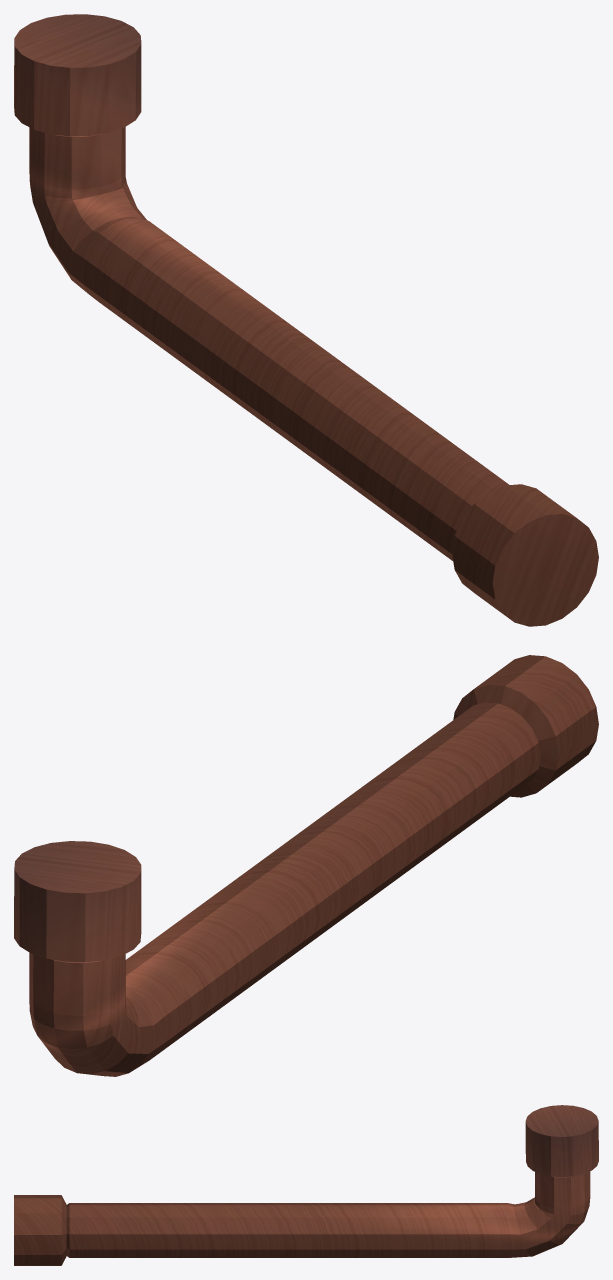
Rendered from tuyau.fbx.
3 views of the same model, one above another, from view 1: azimuth 30°, elevation 25°; view 2: azimuth 150°, elevation 25°; view 3: azimuth 270°, elevation 25° (orthographic). The views are drawn at different scales.
Parts seen in each view (by area): view 1: pCylinder1; view 2: pCylinder1; view 3: pCylinder1.
Boxes of the visible parts, box(x1,y1,x2,y2) form: pCylinder1: box(14, 14, 598, 626); pCylinder1: box(14, 655, 598, 1076); pCylinder1: box(14, 1105, 598, 1265).
Bounding box in the file's own units: 33.68 × 69.69 × 260.
